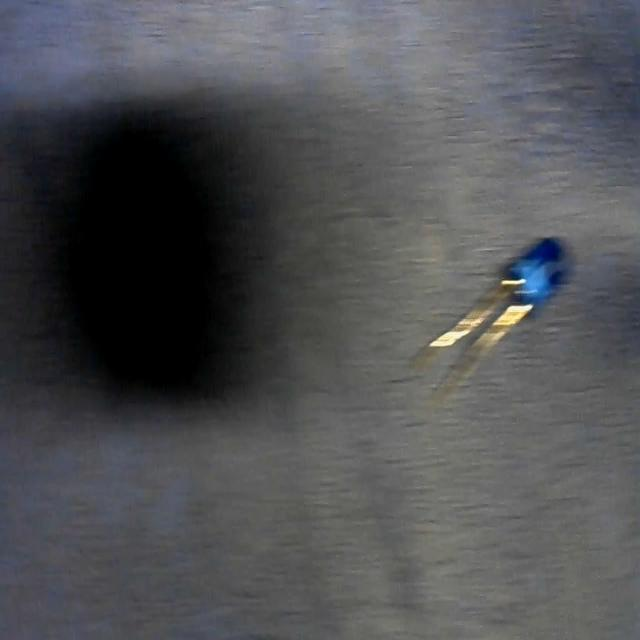LED: (405, 234, 572, 409)
